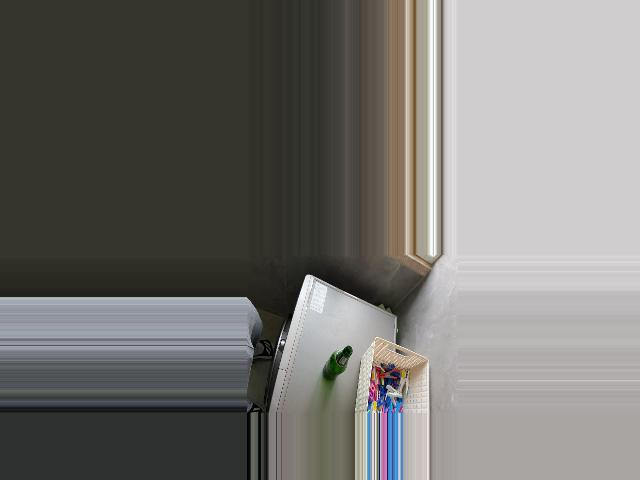beer: (322, 345, 351, 380)
